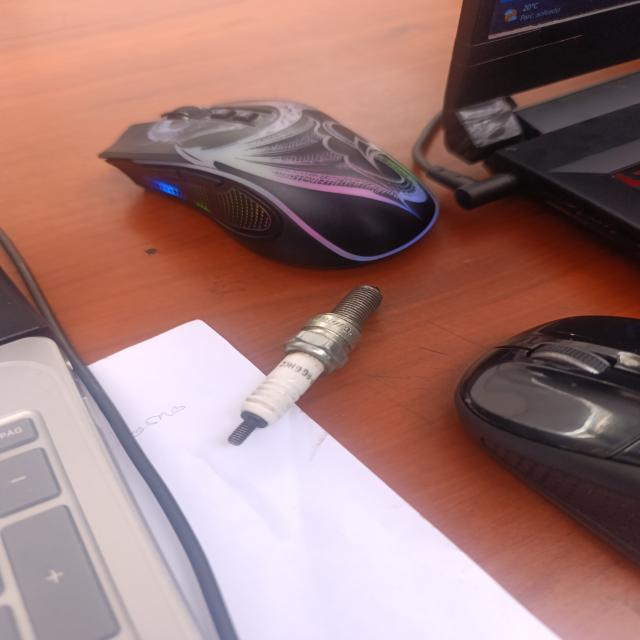bujia: (228, 285, 382, 445)
